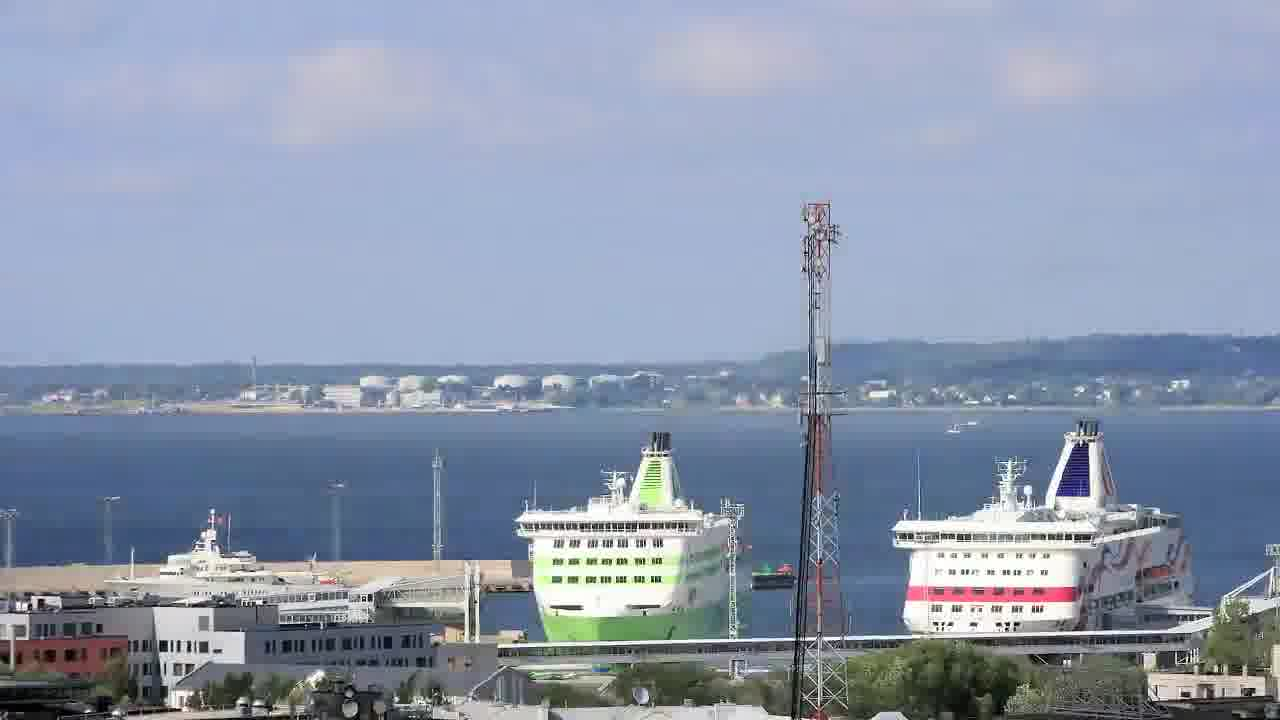type-3: (868, 415, 1225, 638), (510, 429, 759, 670), (84, 511, 353, 609)
